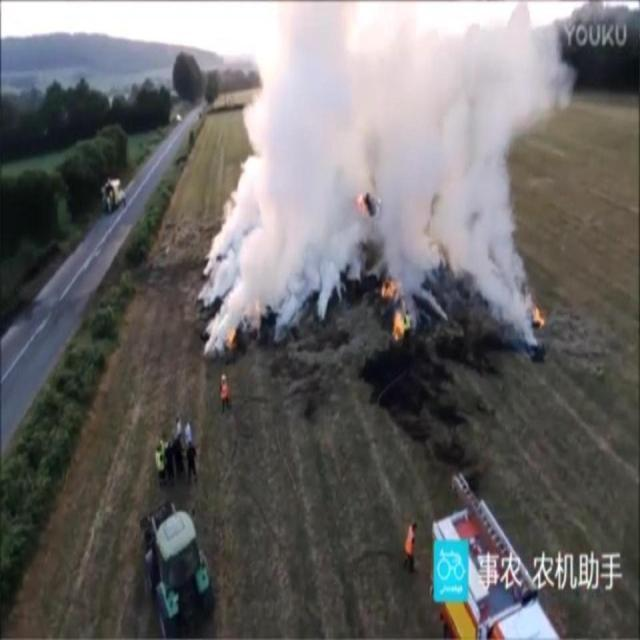Fire: (380, 277, 408, 340), (532, 304, 546, 330)
Smoke: (198, 1, 576, 364)
